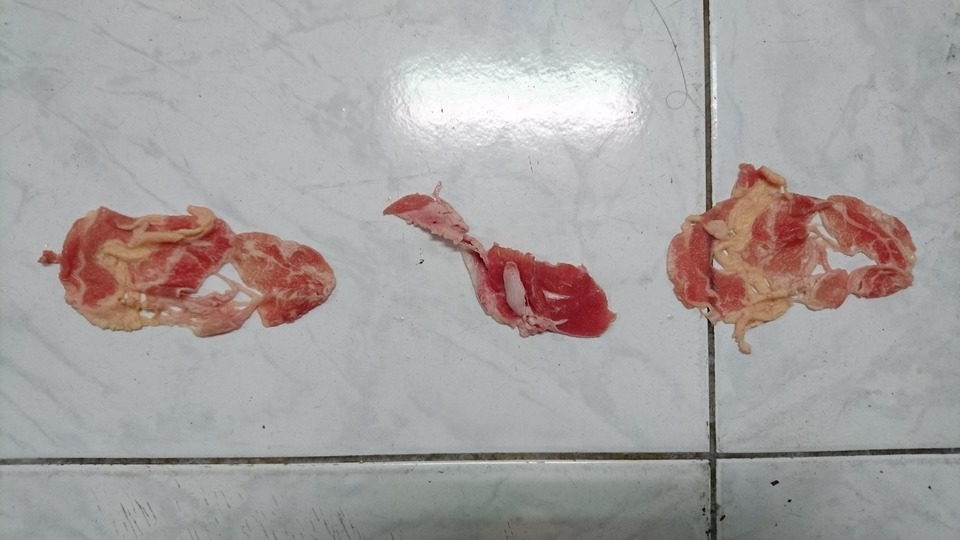restructured meat: (645, 161, 928, 335), (30, 201, 368, 339), (377, 181, 608, 344)
